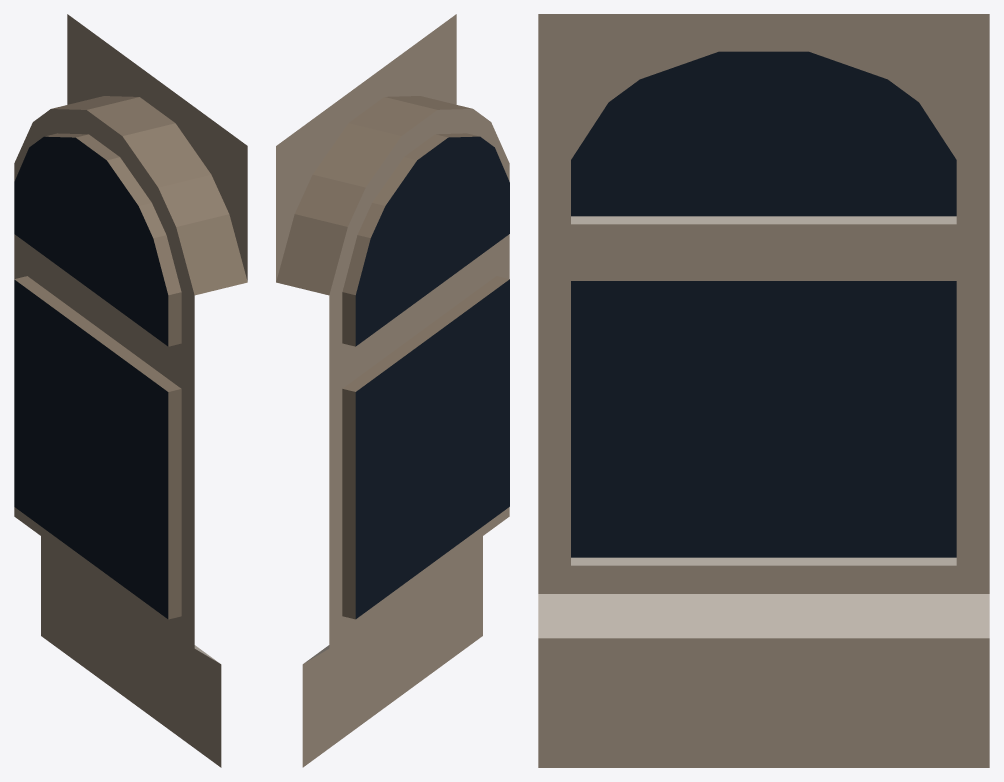
File: red_brick_building_ground_floor_window.fbx
3 views of the same model, side by side, from view 1: azimuth 30°, elevation 25°; view 2: azimuth 150°, elevation 25°; view 3: azimuth 270°, elevation 25° (orthographic). The views are drawn at different scales.
Visible parts, largest first — view 1: red_brick_building_ground_floor_window; view 2: red_brick_building_ground_floor_window; view 3: red_brick_building_ground_floor_window.
Boxes of the visible parts, x1,y1,x2,y2 form: red_brick_building_ground_floor_window: [14, 14, 247, 767]; red_brick_building_ground_floor_window: [276, 14, 509, 767]; red_brick_building_ground_floor_window: [538, 14, 989, 767].
Bounding box in the file's own units: 72.3 × 640 × 340.
